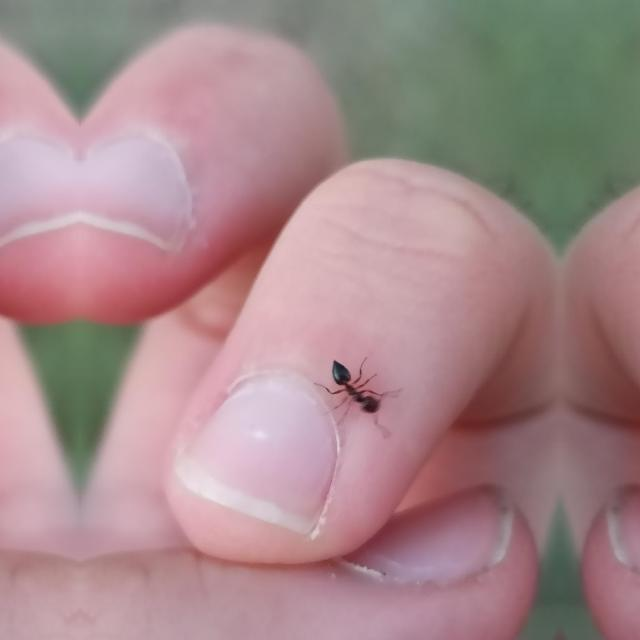Crematogaster: (322, 350, 398, 428)
